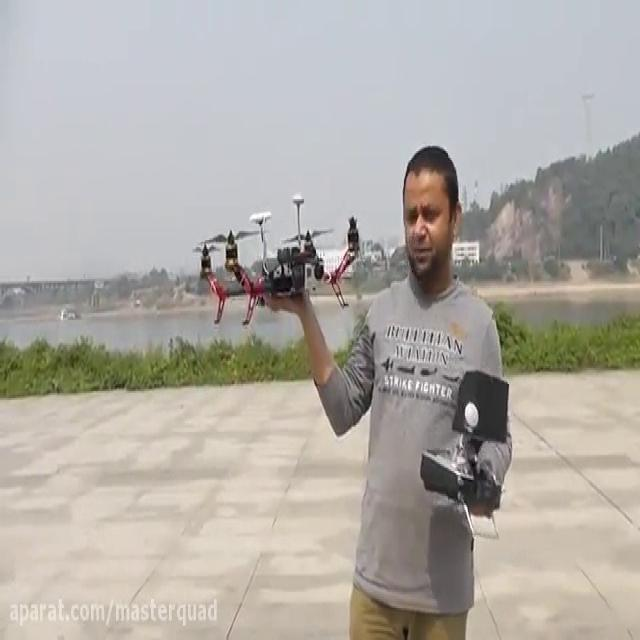drone: (182, 191, 364, 333)
